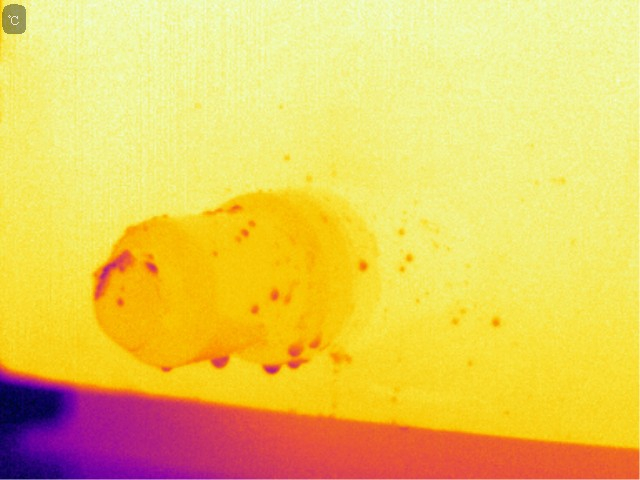Water: (208, 351, 238, 375), (141, 251, 167, 278), (260, 288, 297, 304), (259, 359, 281, 377), (286, 341, 307, 358), (487, 314, 505, 332), (307, 332, 323, 351), (235, 226, 256, 240), (199, 204, 223, 216), (285, 359, 307, 372), (227, 202, 248, 215), (247, 302, 262, 317), (242, 217, 262, 228), (357, 257, 369, 275), (161, 364, 179, 376)
